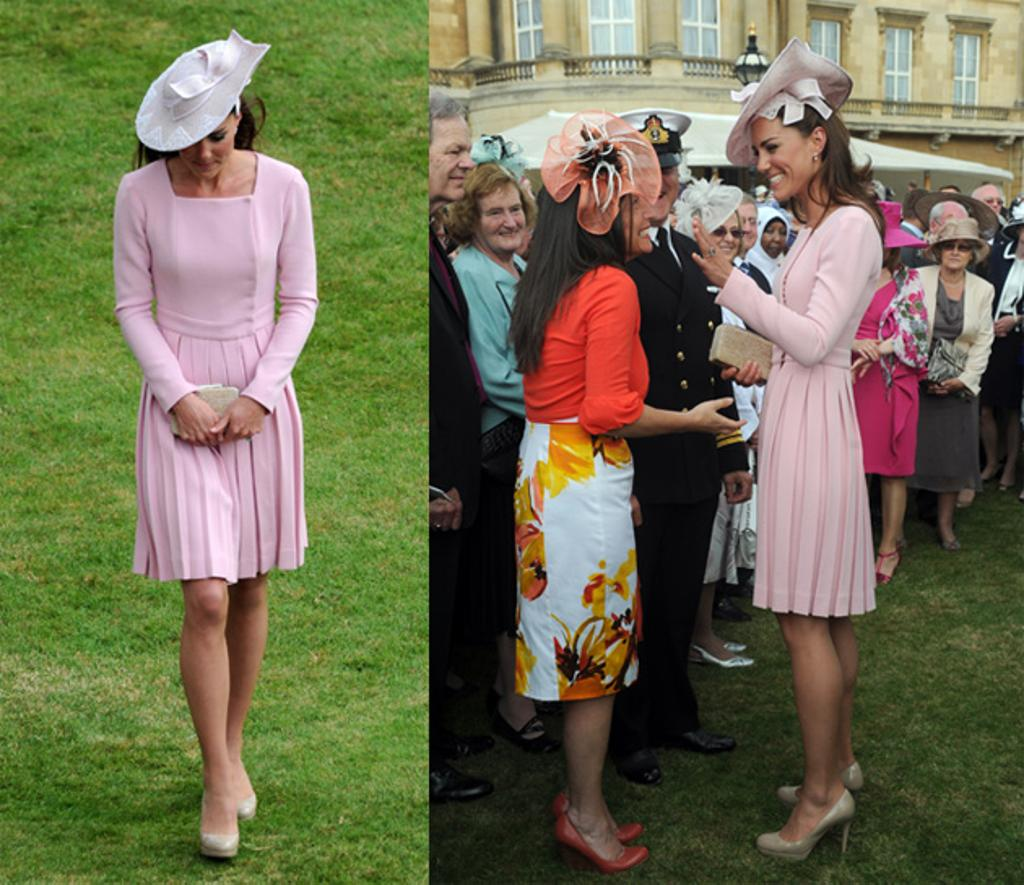face: (752, 122, 814, 199), (419, 123, 472, 198), (177, 113, 233, 180), (600, 184, 652, 252), (624, 159, 681, 220), (478, 192, 526, 250), (706, 215, 738, 260), (731, 204, 757, 246), (942, 233, 970, 267), (762, 222, 786, 257), (980, 192, 1003, 218)
